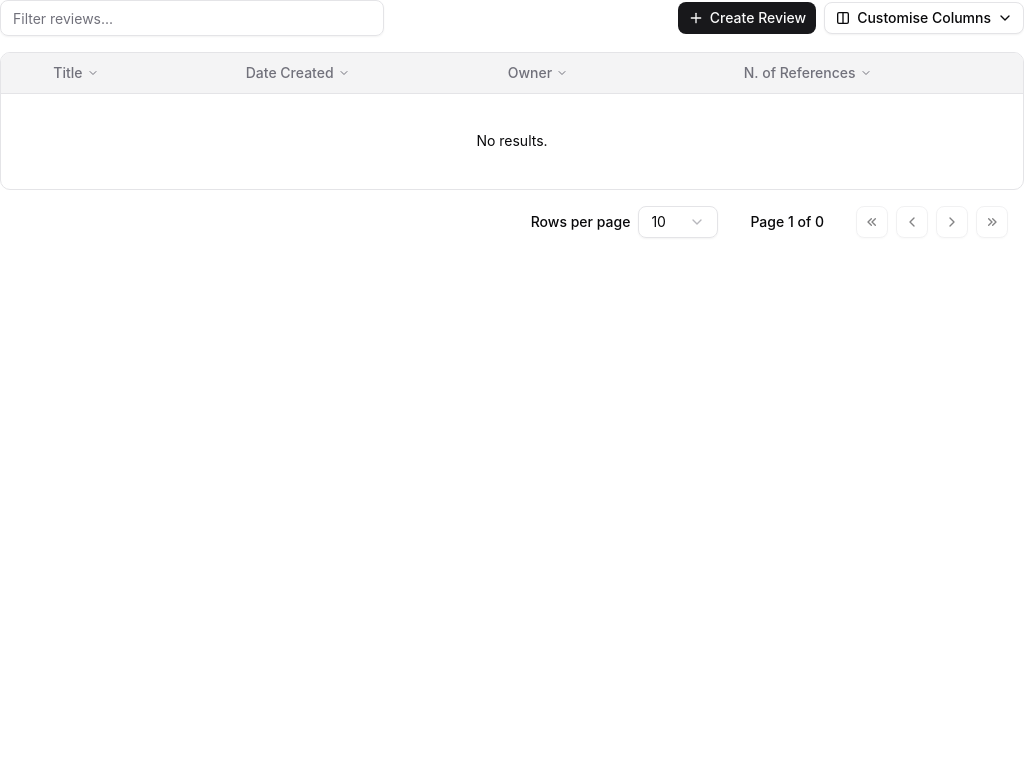
Test: Components - ReviewsTable › should open the create review dialog when Create Review is clicked
This screenshot has width=1024, height=768.
Click the button "Create Review": (747,18) x1=678 y1=2 x2=816 y2=34
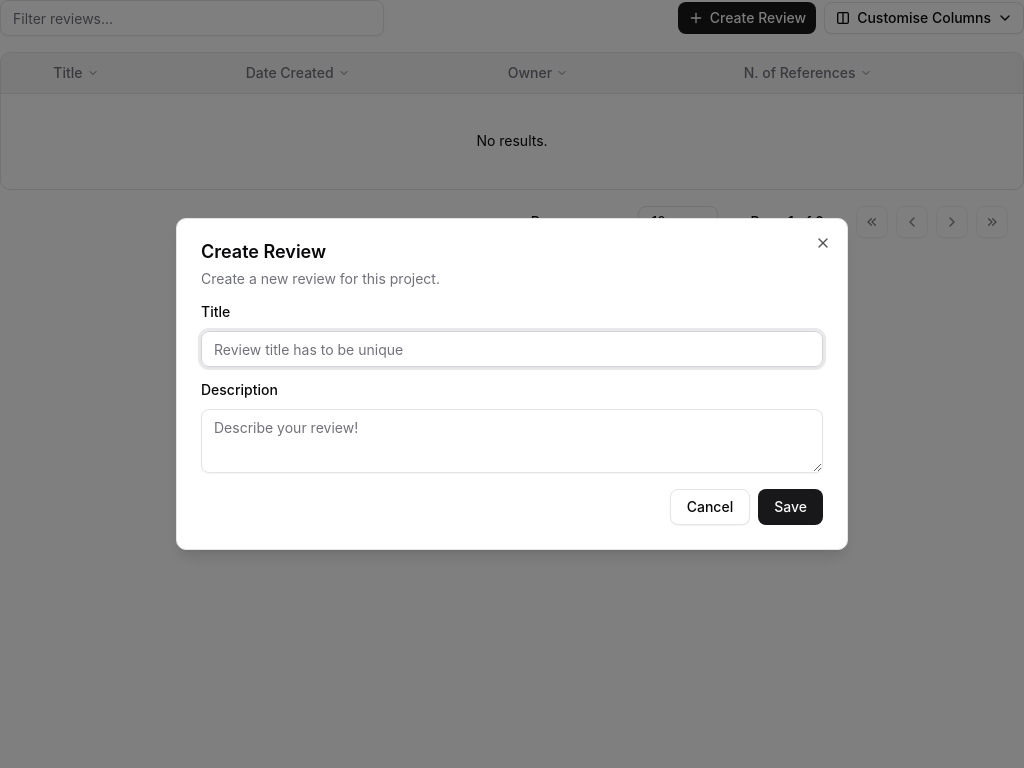
expect the text "Create a new review for this project." is shown: met, box x1=201 y1=270 x2=440 y2=287
